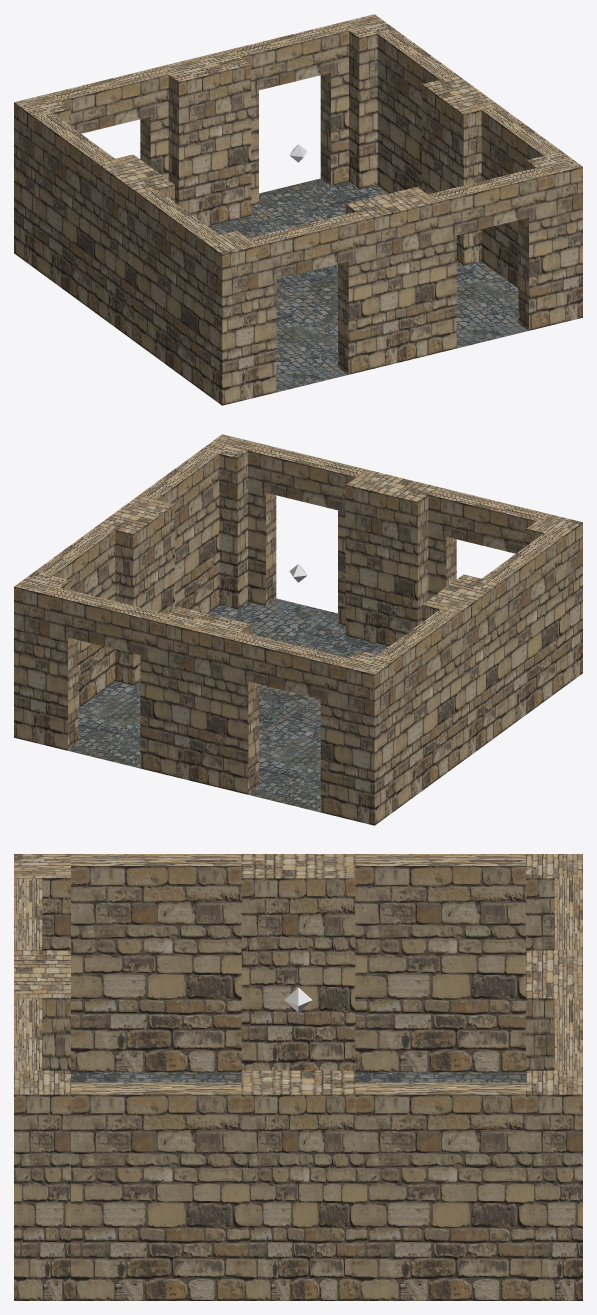
The model's file is 1_4doorNS.fbx.
3 views of the same model, one above another, from view 1: azimuth 30°, elevation 25°; view 2: azimuth 150°, elevation 25°; view 3: azimuth 270°, elevation 25° (orthographic). The views are drawn at different scales.
Parts seen in each view (by area): view 1: Cube_4, Plane; view 2: Cube_4, Plane; view 3: Cube_4, Plane.
Part boxes in pixels (box(x1,y1,x2,y2)): Cube_4: box(14, 14, 582, 405); Plane: box(208, 178, 528, 392); Cube_4: box(14, 434, 582, 825); Plane: box(68, 598, 388, 812); Cube_4: box(14, 854, 582, 1300); Plane: box(71, 1072, 525, 1082).
Size of the model in its own units: 20 by 8 by 20.
3 materials, 3 textured.
